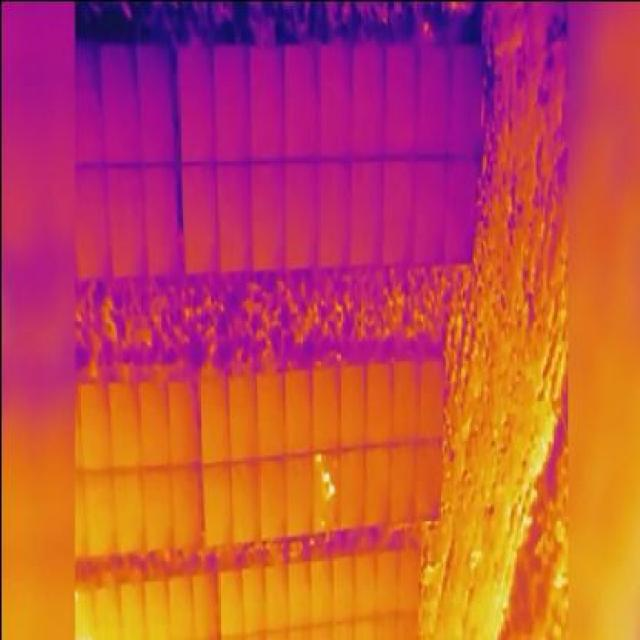hotspot: (320, 465, 329, 481), (326, 485, 336, 497), (314, 452, 320, 461)
